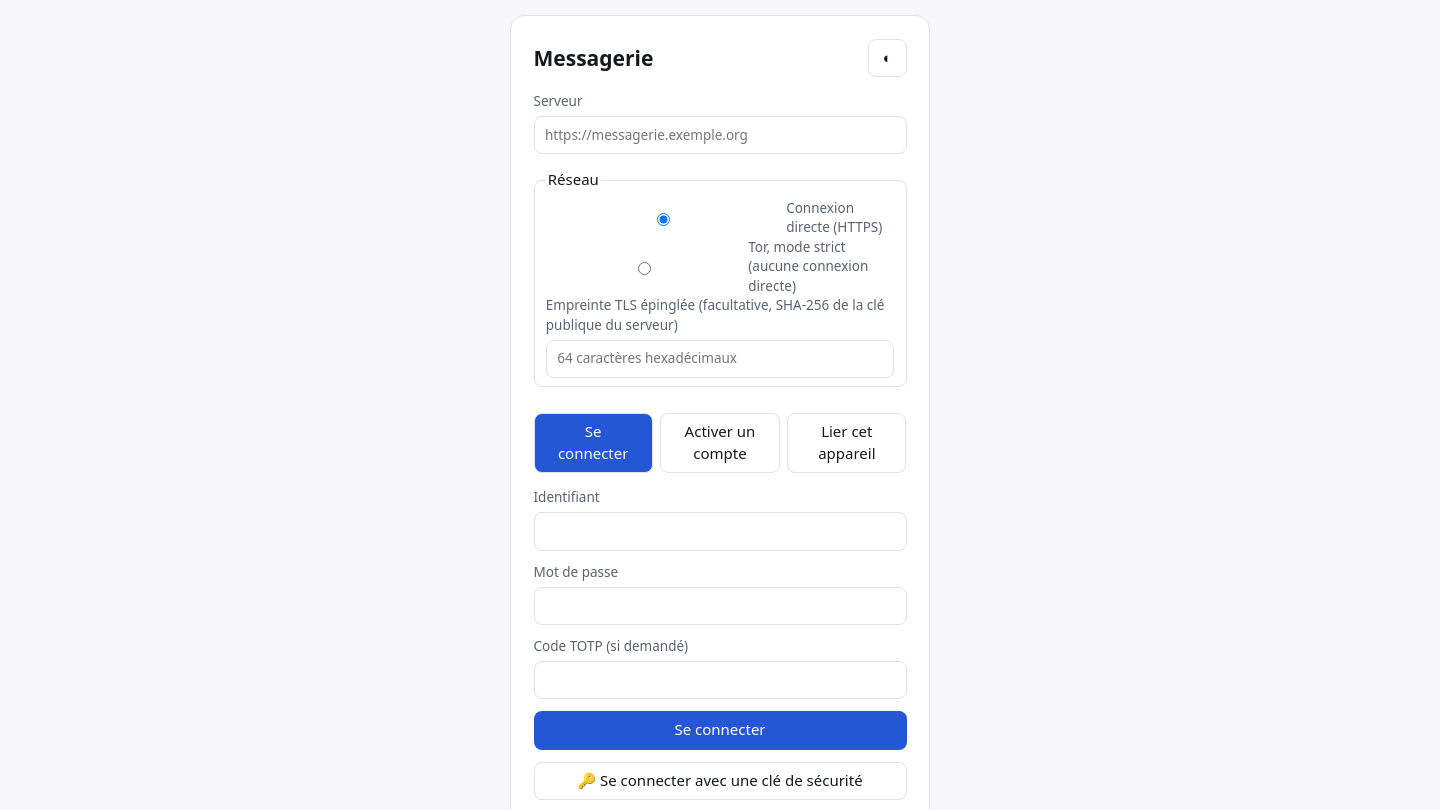
Intégrité de l'application › affiche l'état de la signature et l'empreinte de l'exécutable
Type "https://srv" into the field labelled "Serveur" at (720, 135), box x1=534 y1=116 x2=906 y2=154
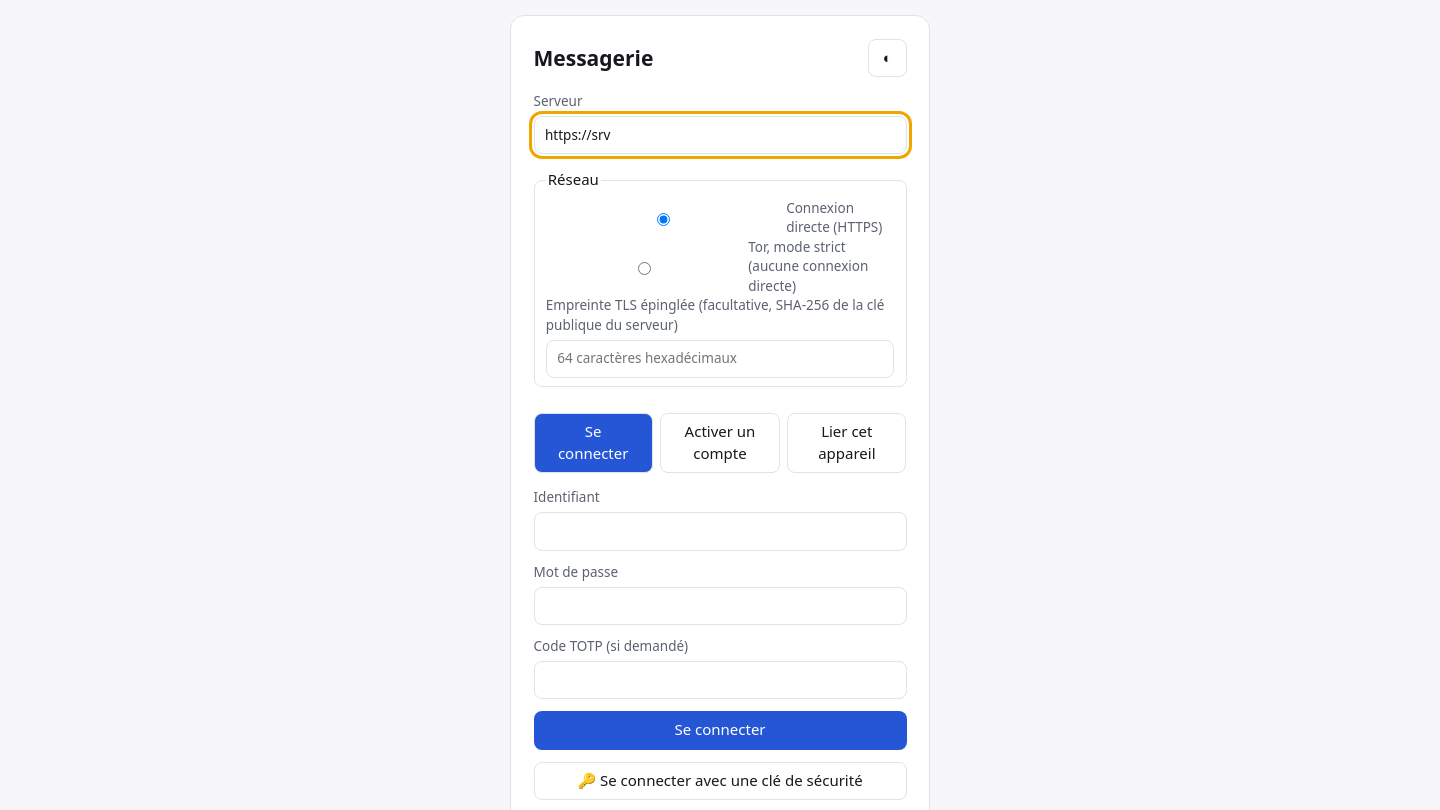
Type "alice" into the field labelled "Identifiant" at (720, 531), box x1=534 y1=512 x2=906 y2=550
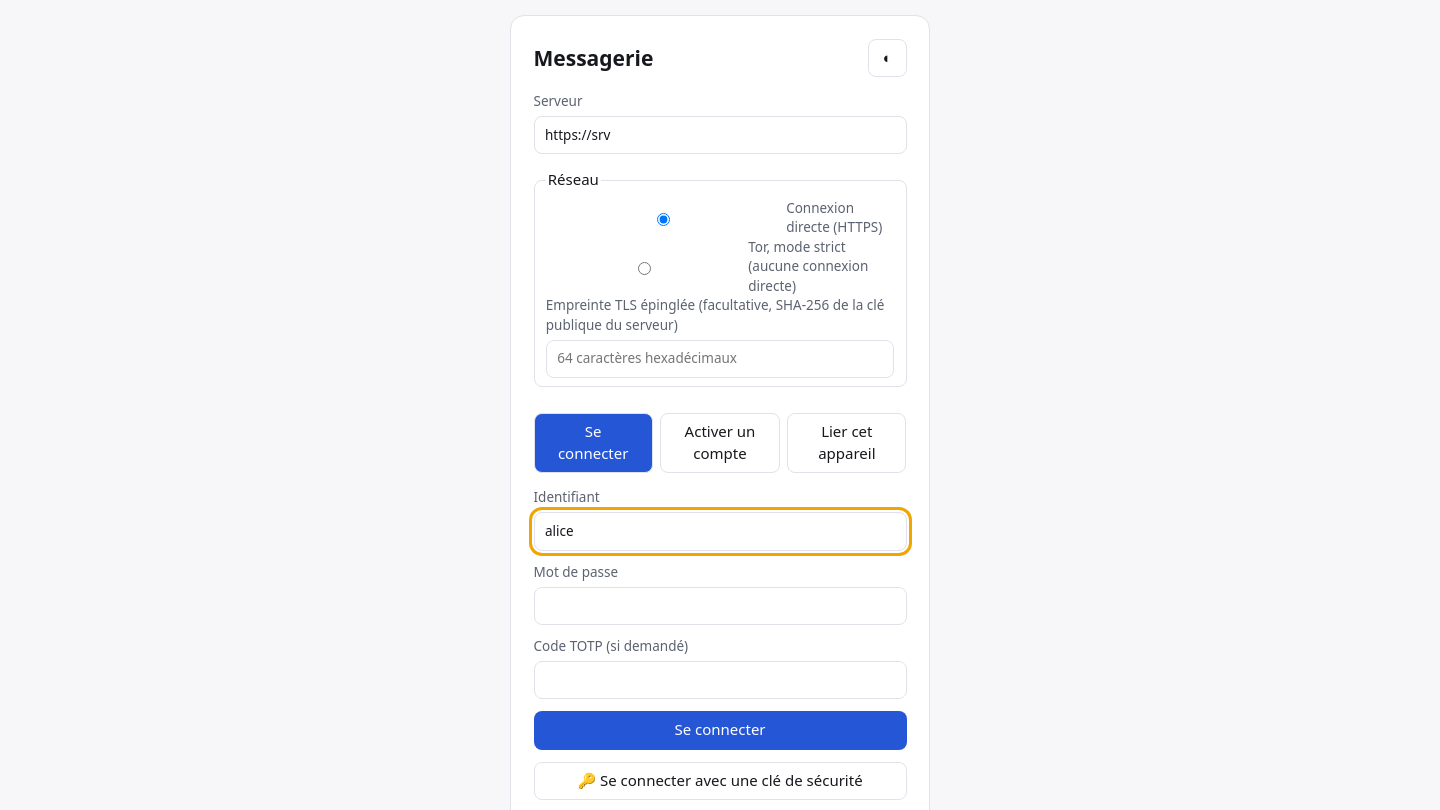
Type "motdepasse-long" into the password field labelled "Mot de passe" at (720, 606), box x1=534 y1=587 x2=906 y2=625
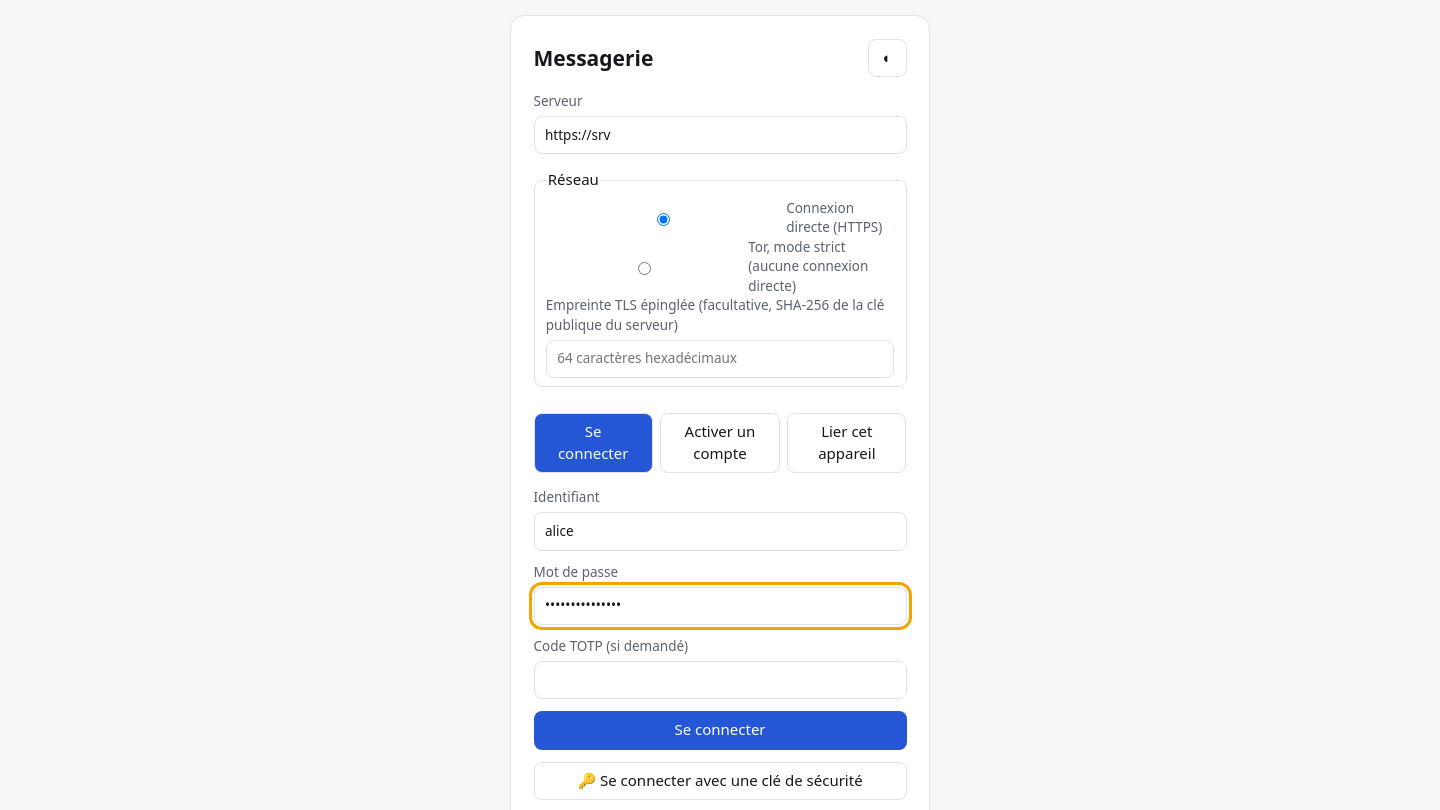
Click the button "Se connecter" at (720, 730), box x1=534 y1=711 x2=906 y2=750
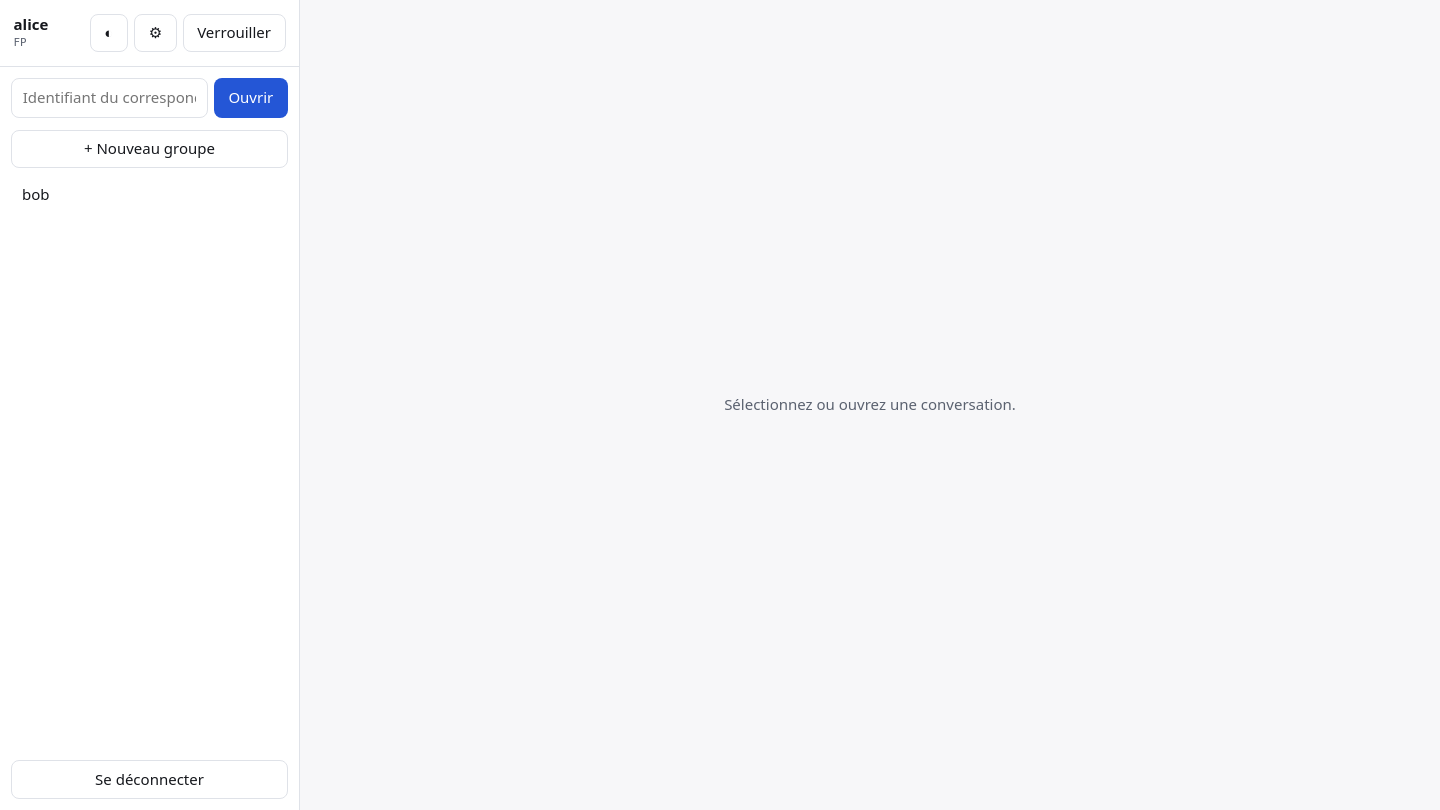
Click the button named "Sécurité" at (155, 33), box x1=134 y1=14 x2=177 y2=52
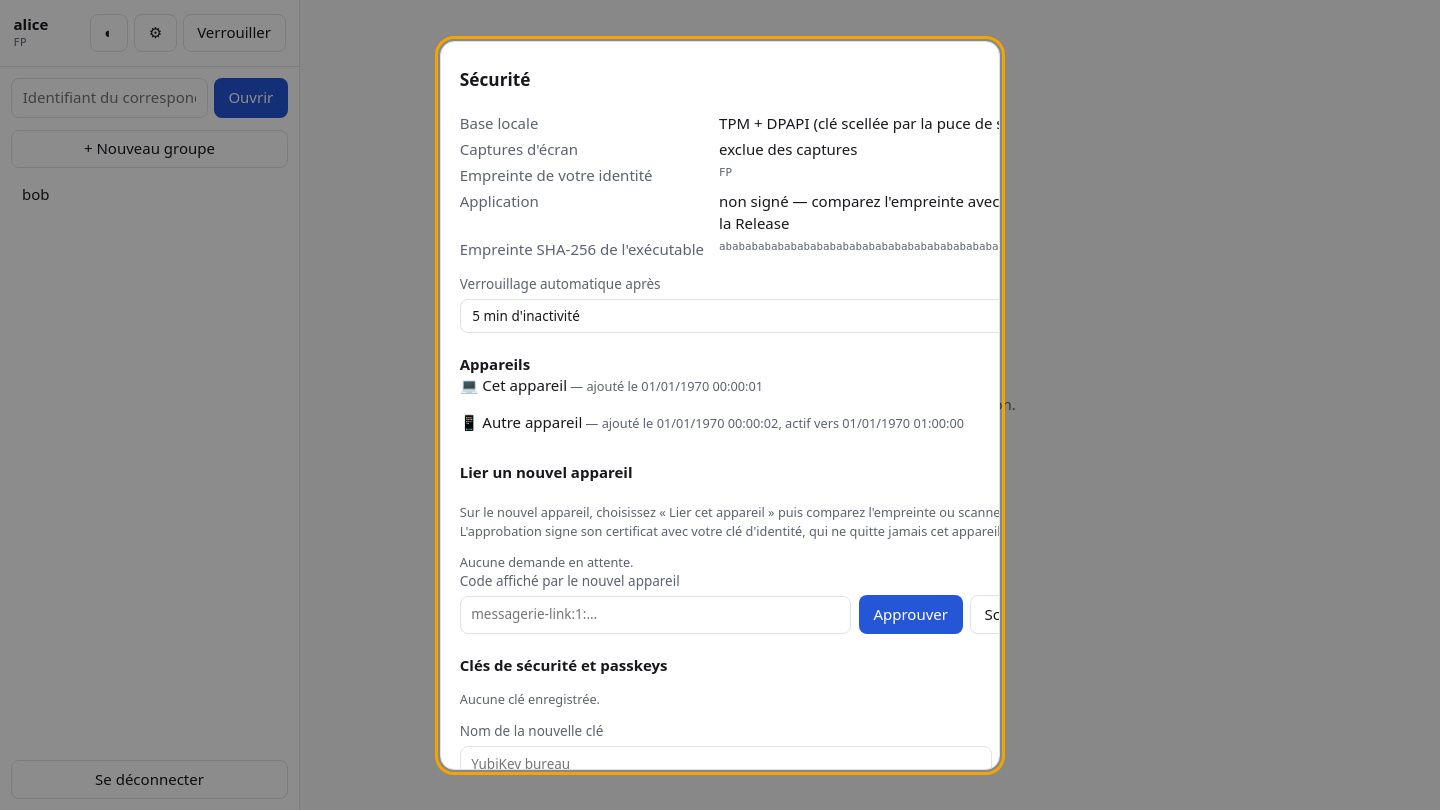
Check: the text "comparez l'empreinte avec SHA256SUMS" is shown, box x1=719 y1=191 x2=1000 y2=233
